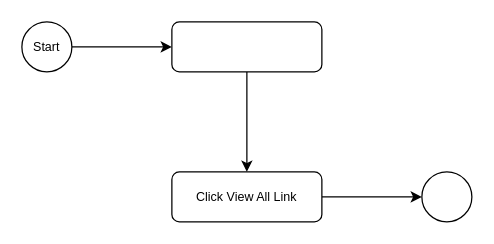
The diagram is 494 pixels wide and 244 high, and some of its shapes have lost their labels. Each missing label, with the centre of its shape:
Finish: [446,196]
Select Notification Icon Button: [246,46]
